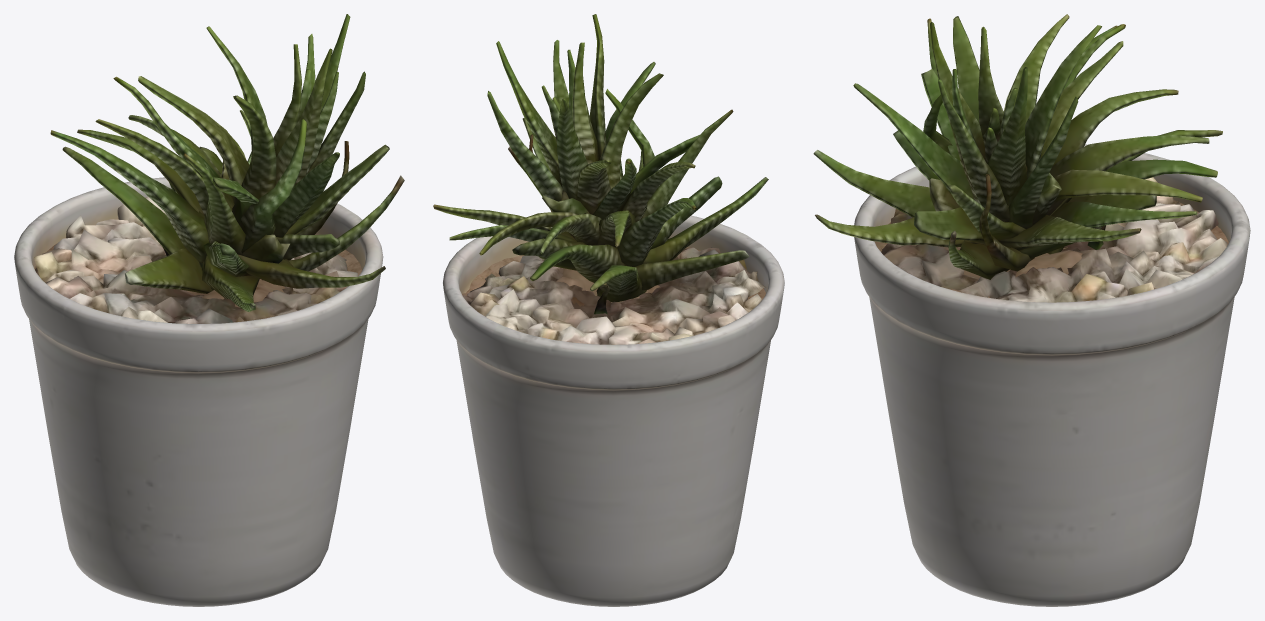
Rendered from potted_plant_04.glb.
The picture shows the model from 3 angles, left to right: view 1: azimuth 30°, elevation 25°; view 2: azimuth 150°, elevation 25°; view 3: azimuth 270°, elevation 25°; orthographic projection. The views are drawn at different scales.
Visible parts, largest first — view 1: potted_plant_04_ground; view 2: potted_plant_04_ground; view 3: potted_plant_04_ground.
Boxes of the visible parts, x1=… form: potted_plant_04_ground: x1=14, y1=14, x2=404, y2=606; potted_plant_04_ground: x1=433, y1=14, x2=784, y2=606; potted_plant_04_ground: x1=813, y1=14, x2=1250, y2=606.
Bounding box in the file's own units: 0.1679 × 0.2675 × 0.1848.
Materials: 1 (1 with a texture image).
